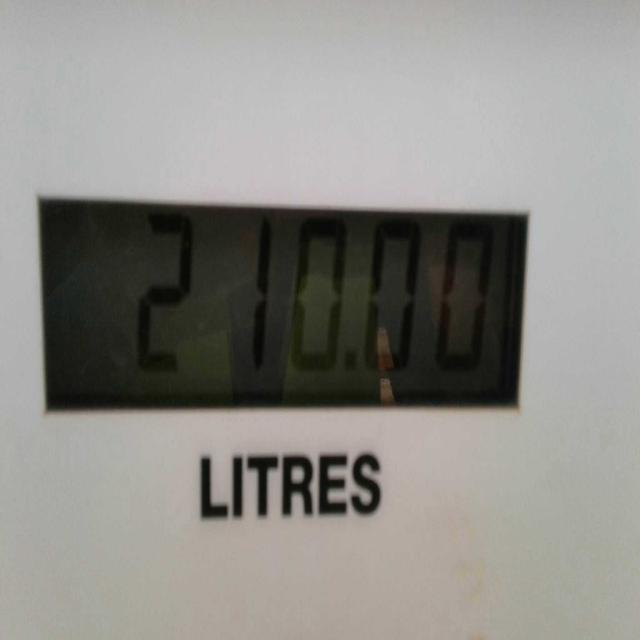.: (341, 342, 361, 376)
0: (290, 210, 356, 385), (365, 204, 423, 396), (438, 221, 494, 393)
1: (224, 216, 280, 380)
2: (126, 206, 193, 386)
